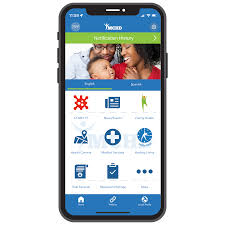Smart Phone: (55, 1, 173, 224)
